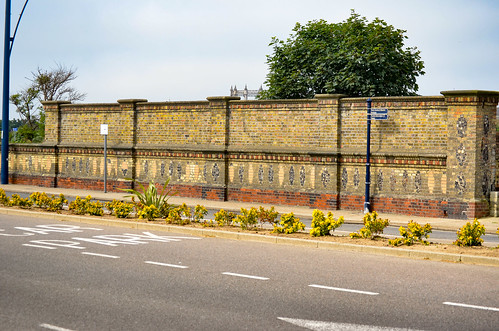sidewalk: (1, 184, 499, 240)
sky: (11, 1, 499, 83)
street: (1, 208, 499, 331)
tree: (268, 19, 415, 98), (14, 71, 78, 137)
wall: (8, 98, 482, 215)
